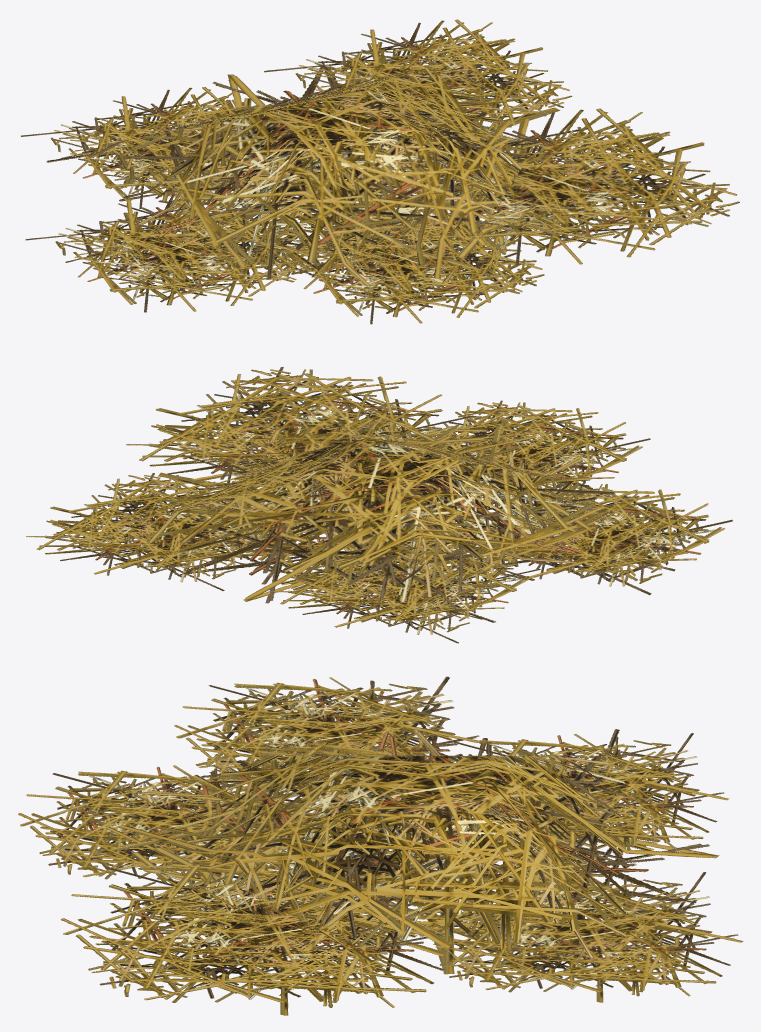
The model's file is slama4.FBX.
3 views of the same model, one above another, from view 1: azimuth 30°, elevation 25°; view 2: azimuth 150°, elevation 25°; view 3: azimuth 270°, elevation 25° (orthographic). The views are drawn at different scales.
Visible parts, largest first — view 1: Slama004_LOD1, Slama004_LOD2; view 2: Slama004_LOD1, Slama004_LOD2; view 3: Slama004_LOD1, Slama004_LOD2.
Part boxes in pixels (left/top/right/bottom): Slama004_LOD1: left=21, top=19, right=739, bottom=324; Slama004_LOD2: left=21, top=21, right=739, bottom=323; Slama004_LOD1: left=26, top=367, right=732, bottom=642; Slama004_LOD2: left=26, top=367, right=732, bottom=643; Slama004_LOD1: left=18, top=677, right=735, bottom=1015; Slama004_LOD2: left=18, top=676, right=743, bottom=1015.
Size of the model in its own units: 237 by 19.17 by 215.
